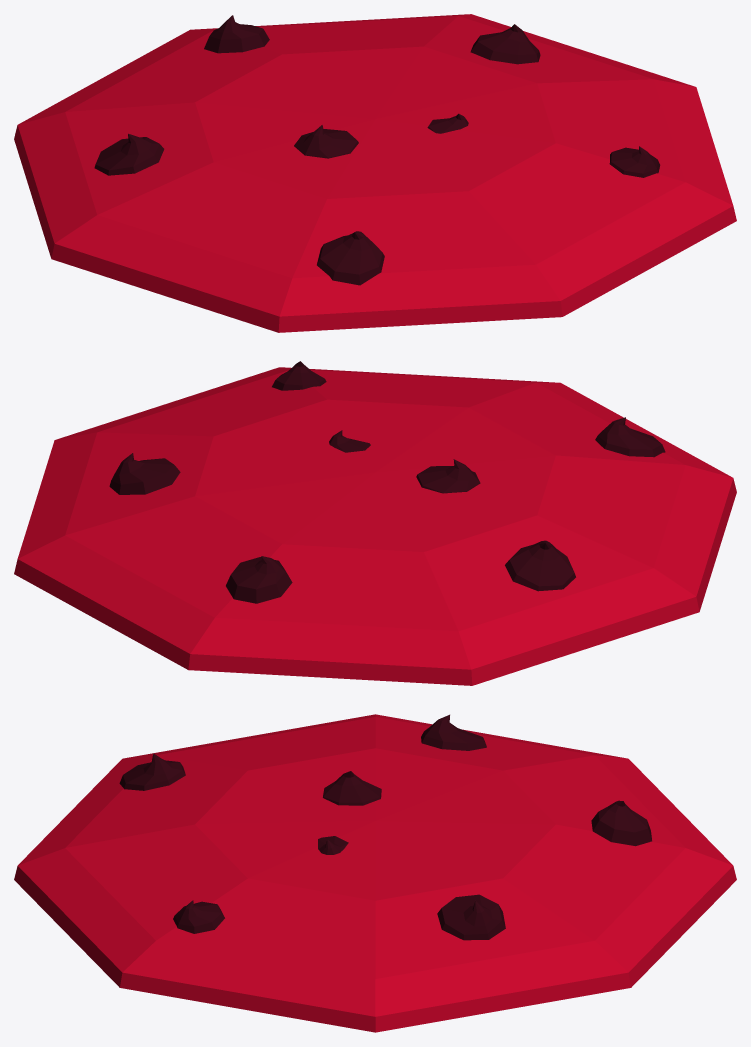
The model's file is ChocolateChipCookie_01.fbx.
3 renders of one model, top to bottom at view 1: azimuth 30°, elevation 25°; view 2: azimuth 150°, elevation 25°; view 3: azimuth 270°, elevation 25°, orthographic. The views are drawn at different scales.
Visible parts, largest first — view 1: ChocolateChipCookie_01; view 2: ChocolateChipCookie_01; view 3: ChocolateChipCookie_01.
Boxes of the visible parts, <box> form: ChocolateChipCookie_01: <box>14,14,736,332</box>; ChocolateChipCookie_01: <box>14,361,736,685</box>; ChocolateChipCookie_01: <box>14,714,736,1032</box>.
Size of the model in its own units: 6.81 by 0.8113 by 6.81.
